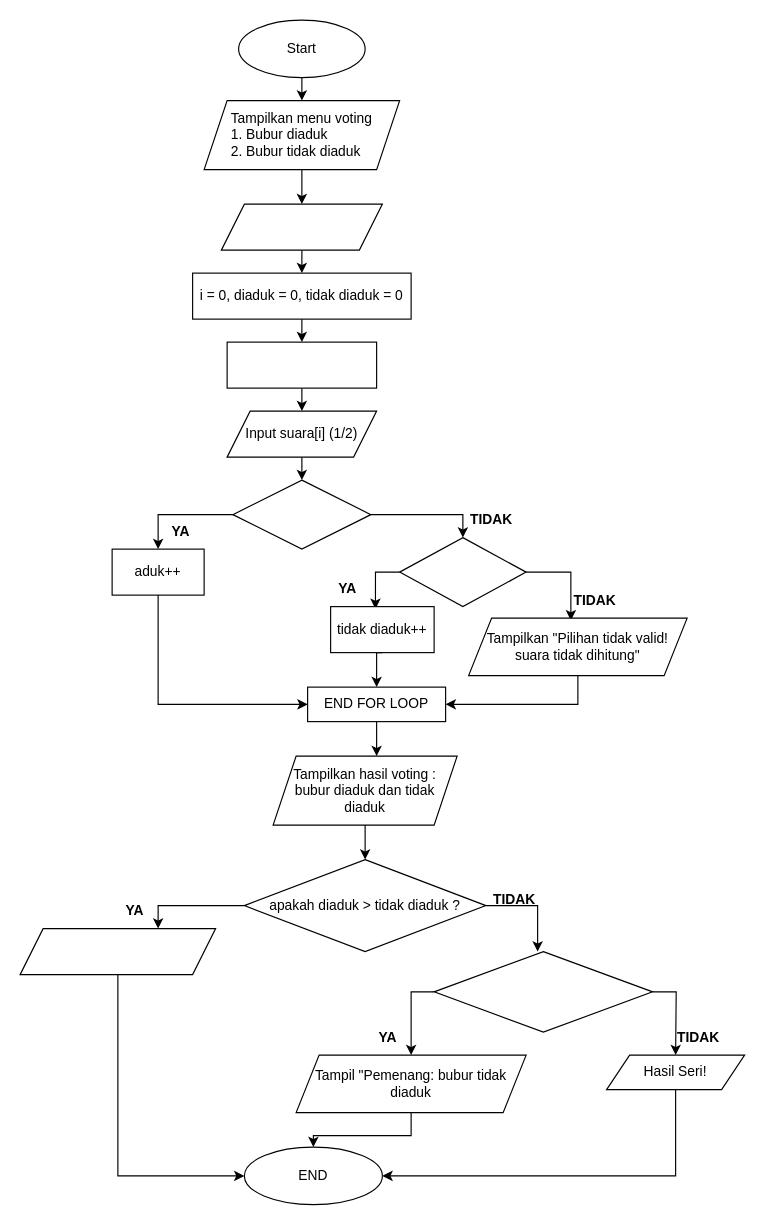
Image size: 765x1225. Some labels were removed from this diagram. Each missing label, with the centre of its shape:
apakah tidak diaduk > diaduk ?: point (543, 991)
FOR i = 0 TO jumlah pemilih - 1: point (301, 364)
Input jumlah pemilih: point (301, 226)
suara [i] == 1?: point (301, 514)
suara [i] == 2?: point (462, 571)
Tampil "Pemenang: bubur diaduk": point (117, 951)
